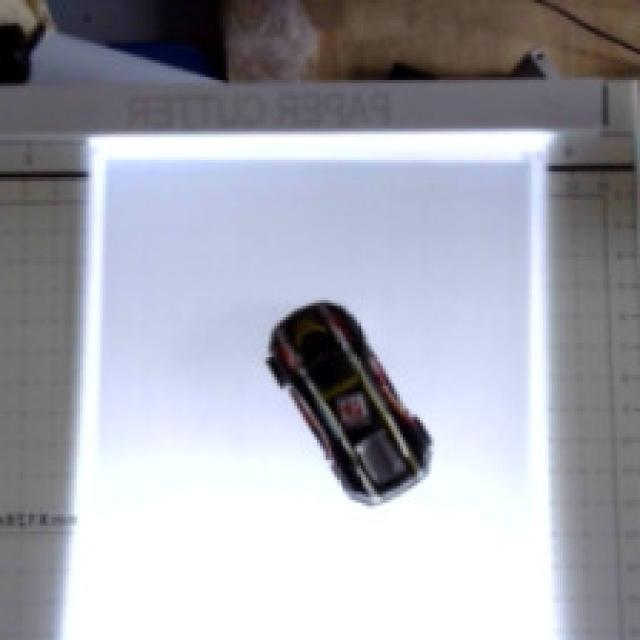Red Car: (206, 272, 462, 535)
